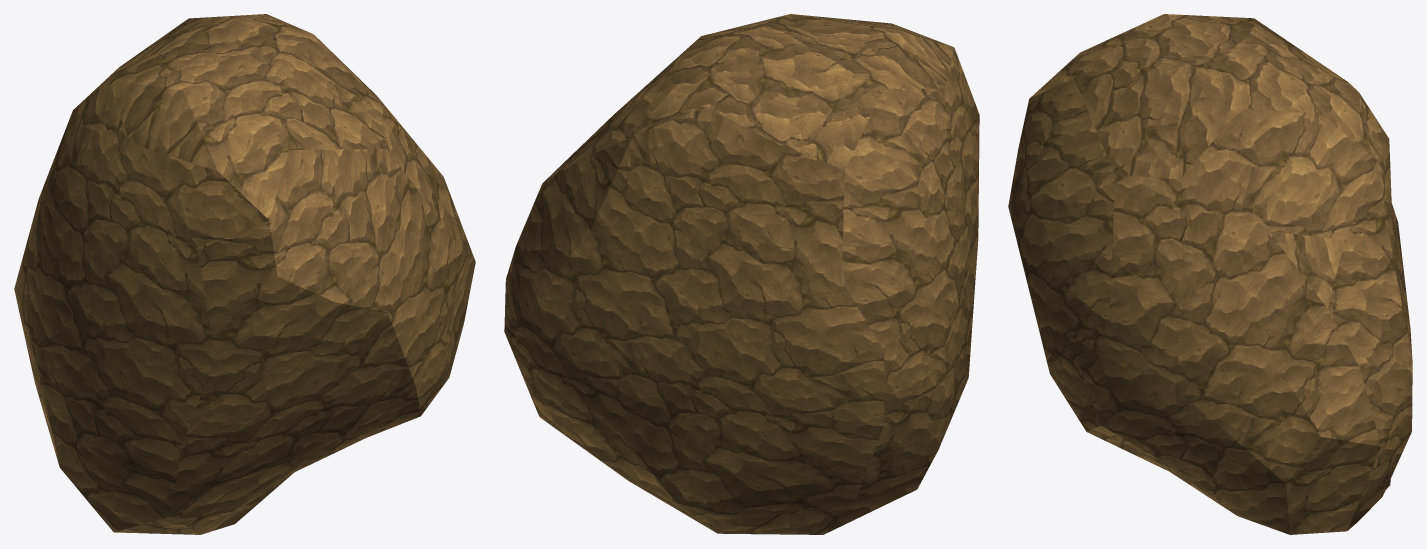
File: grock_i.glb
The picture shows the model from 3 angles, left to right: view 1: azimuth 30°, elevation 25°; view 2: azimuth 150°, elevation 25°; view 3: azimuth 270°, elevation 25°; orthographic projection. The views are drawn at different scales.
Visible parts, largest first — view 1: model; view 2: model; view 3: model.
Boxes of the visible parts, <box> form: model: <box>14,14,475,534</box>; model: <box>504,14,979,534</box>; model: <box>1008,14,1412,534</box>.
Bounding box in the file's own units: 1.92 × 2.12 × 1.64.
1 material, 1 textured.
